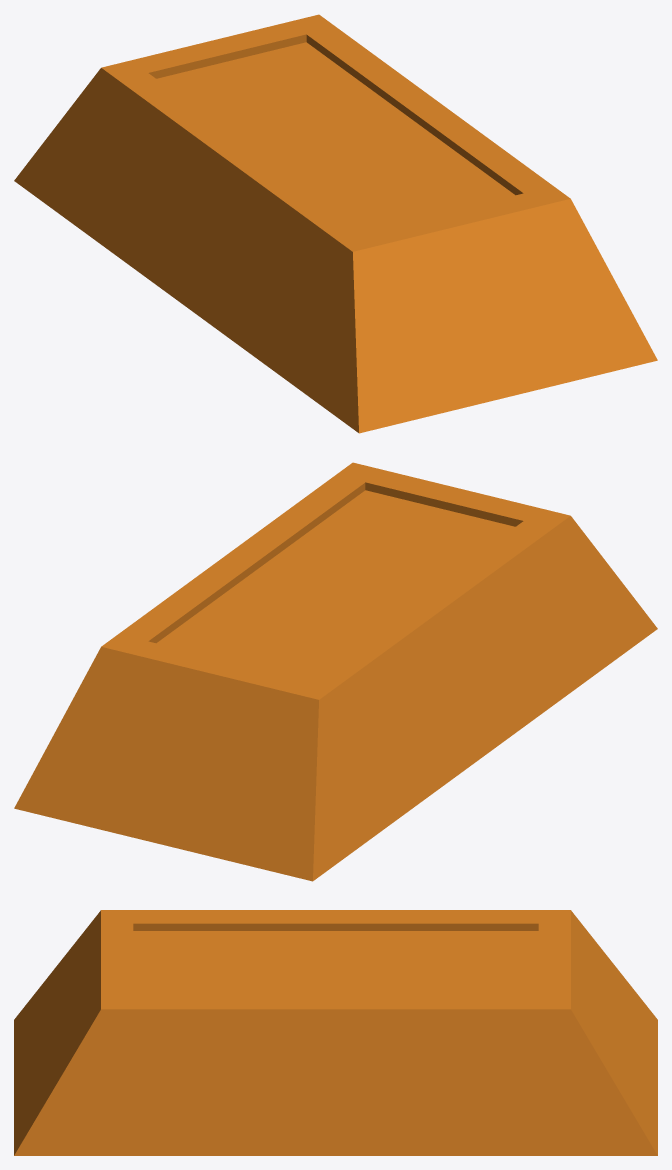
Rendered from Бронзовый слиток.FBX.
The picture shows the model from 3 angles, top to bottom: view 1: azimuth 30°, elevation 25°; view 2: azimuth 150°, elevation 25°; view 3: azimuth 270°, elevation 25°; orthographic projection. The views are drawn at different scales.
Parts seen in each view (by area): view 1: Box001; view 2: Box001; view 3: Box001.
Boxes of the visible parts, x1,y1,x2,y2 form: Box001: [14, 14, 657, 433]; Box001: [14, 462, 657, 881]; Box001: [14, 910, 657, 1155].
Bounding box in the file's own units: 20 × 8.79 × 40.
